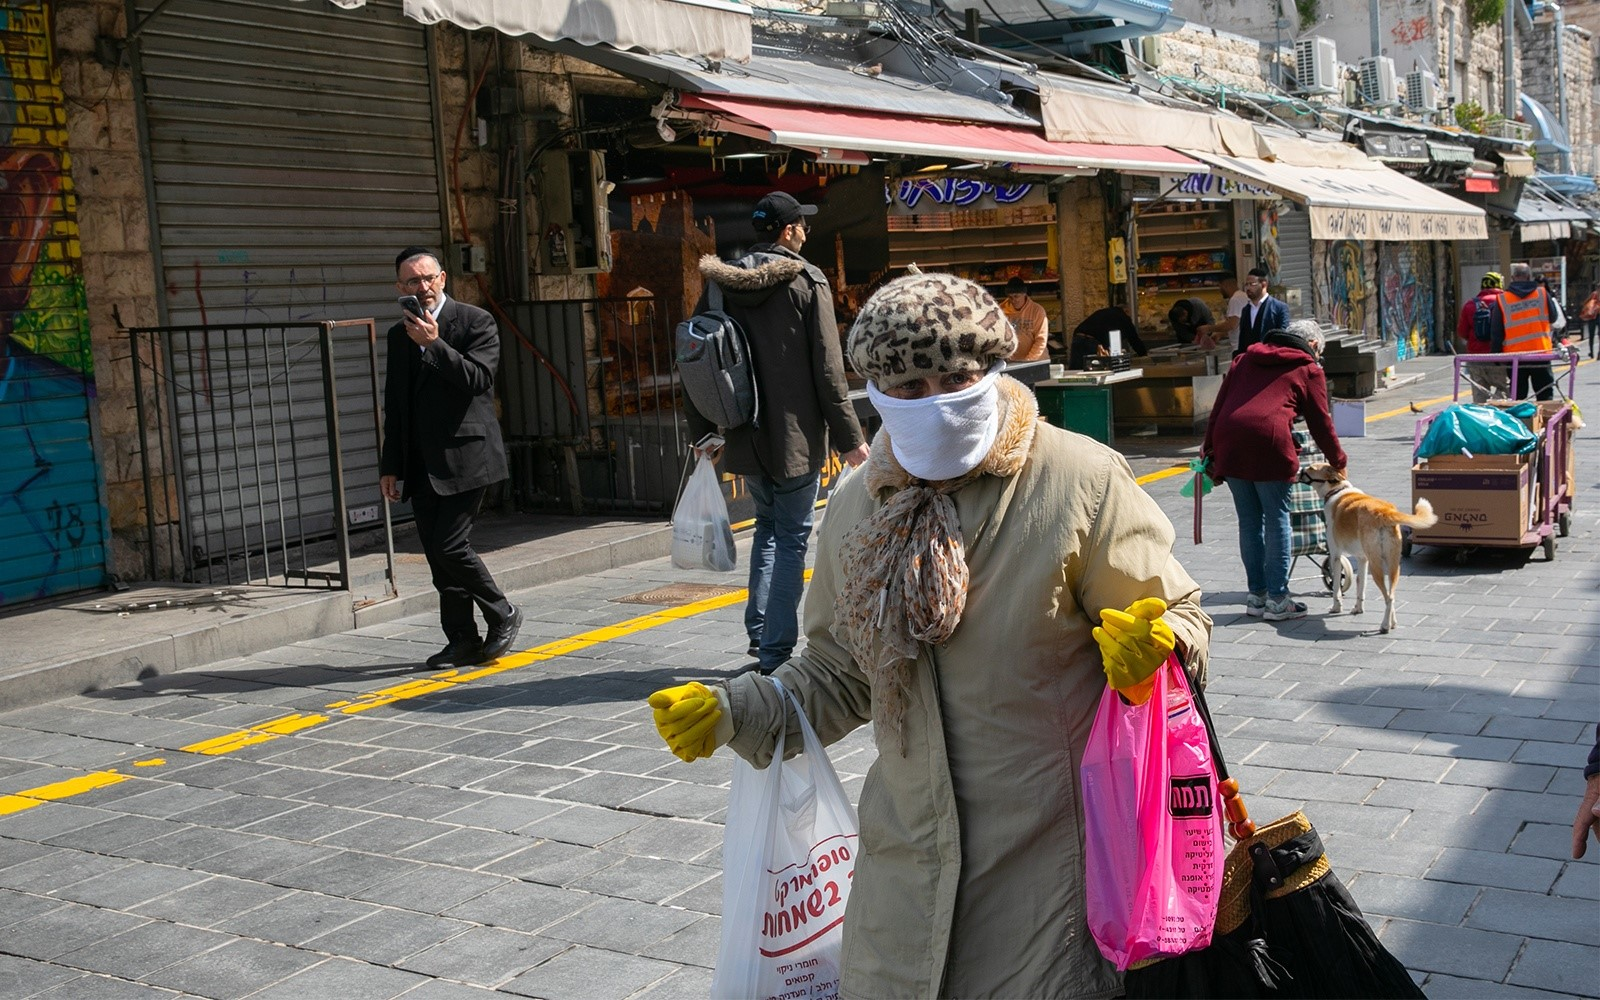face_no_mask: (394, 243, 446, 311)
face_with_mask: (848, 268, 1016, 494)
